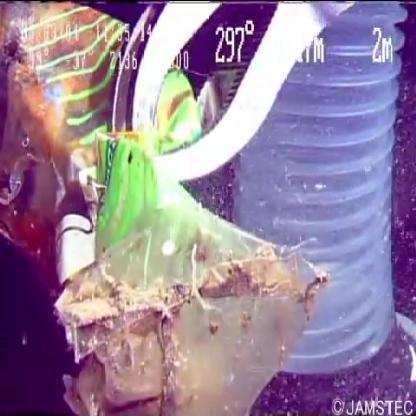Rác: (2, 3, 335, 415)
